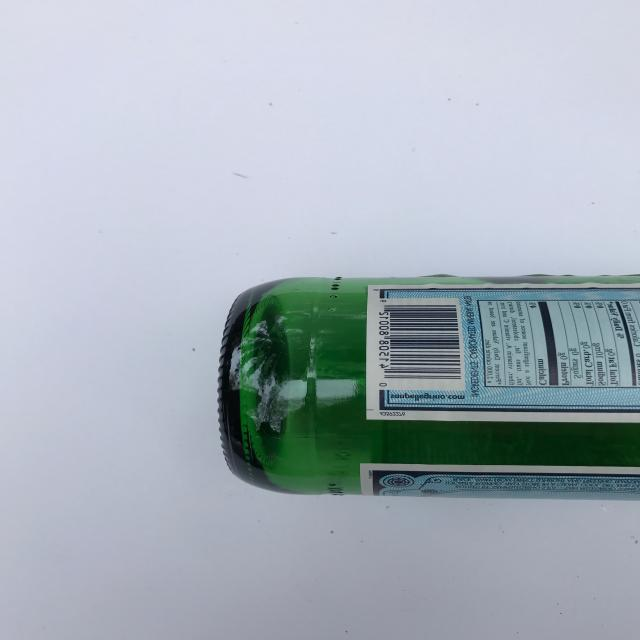glass: (217, 275, 640, 500)
